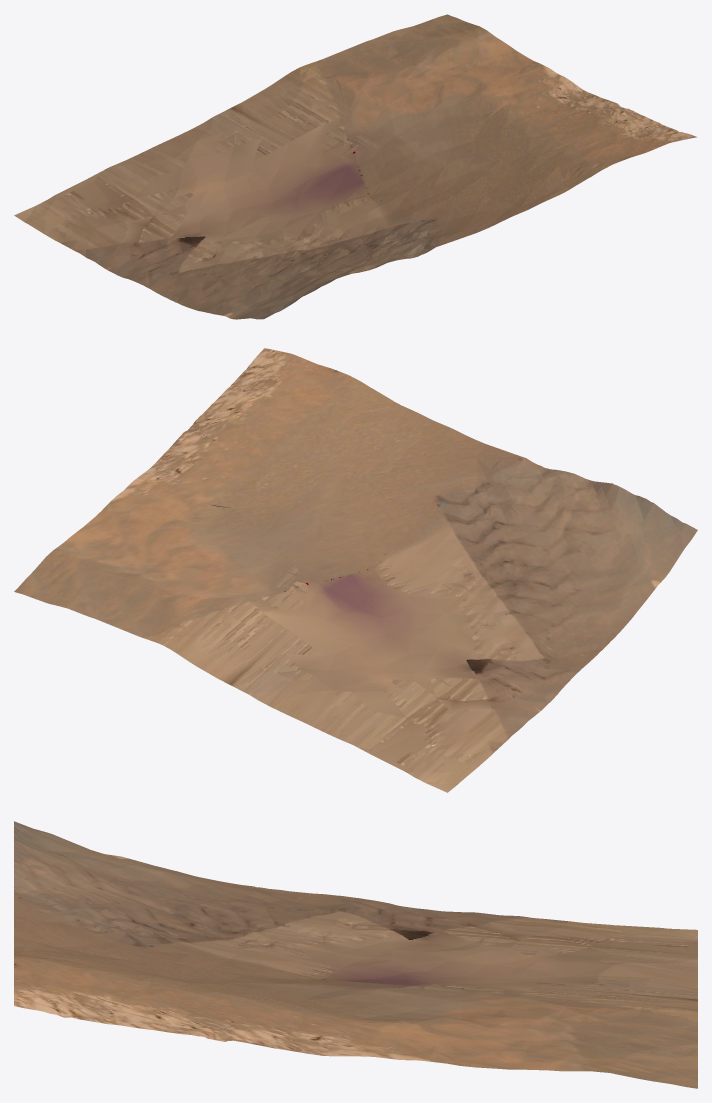
3 renders of one model, top to bottom at view 1: azimuth 30°, elevation 25°; view 2: azimuth 150°, elevation 25°; view 3: azimuth 270°, elevation 25°, orthographic. The views are drawn at different scales.
Size of the model in its own units: 1.04 by 0.3608 by 1.04.
2 materials, 2 textured.
